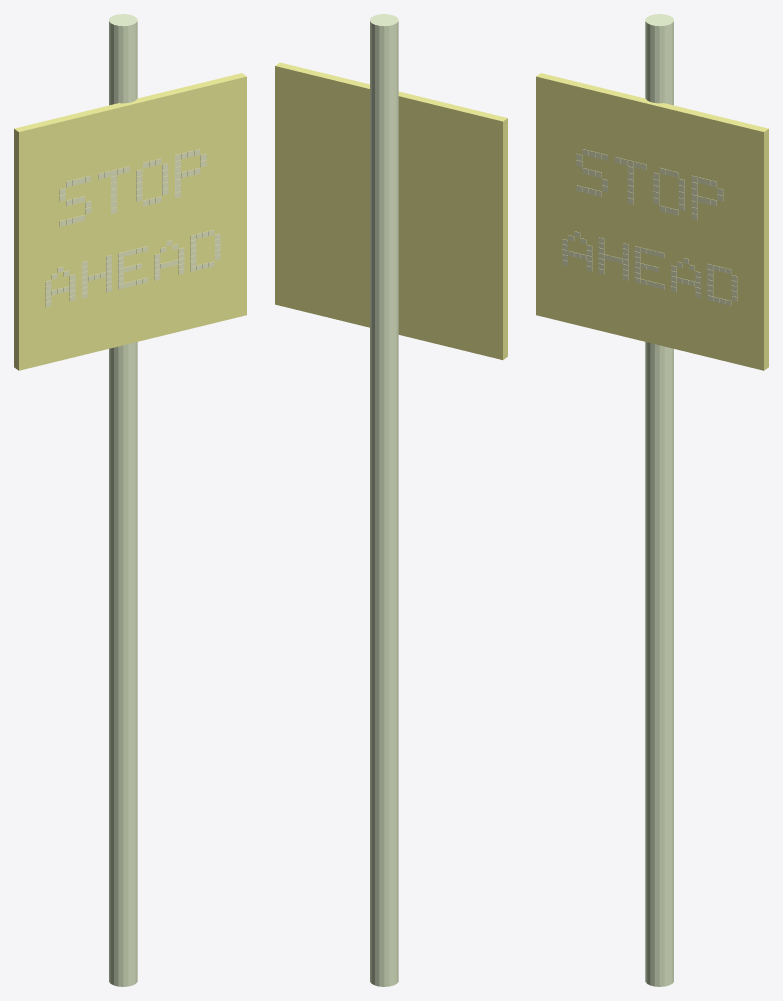
Rendered from sign_stop_ahead_text.glb.
The picture shows the model from 3 angles, left to right: view 1: azimuth 30°, elevation 25°; view 2: azimuth 150°, elevation 25°; view 3: azimuth 330°, elevation 25°; orthographic projection.
Parts seen in each view (by area): view 1: plate_base_00, pole; view 2: plate_base_00, pole; view 3: plate_base_00, pole.
Part boxes in pixels (x1=…): plate_base_00: x1=14, y1=73, x2=246, y2=370; pole: x1=109, y1=14, x2=137, y2=986; plate_base_00: x1=275, y1=62, x2=507, y2=359; pole: x1=370, y1=14, x2=398, y2=986; plate_base_00: x1=536, y1=73, x2=768, y2=370; pole: x1=645, y1=14, x2=673, y2=986.
Size of the model in its own units: 0.5465 by 2.2 by 0.071.
